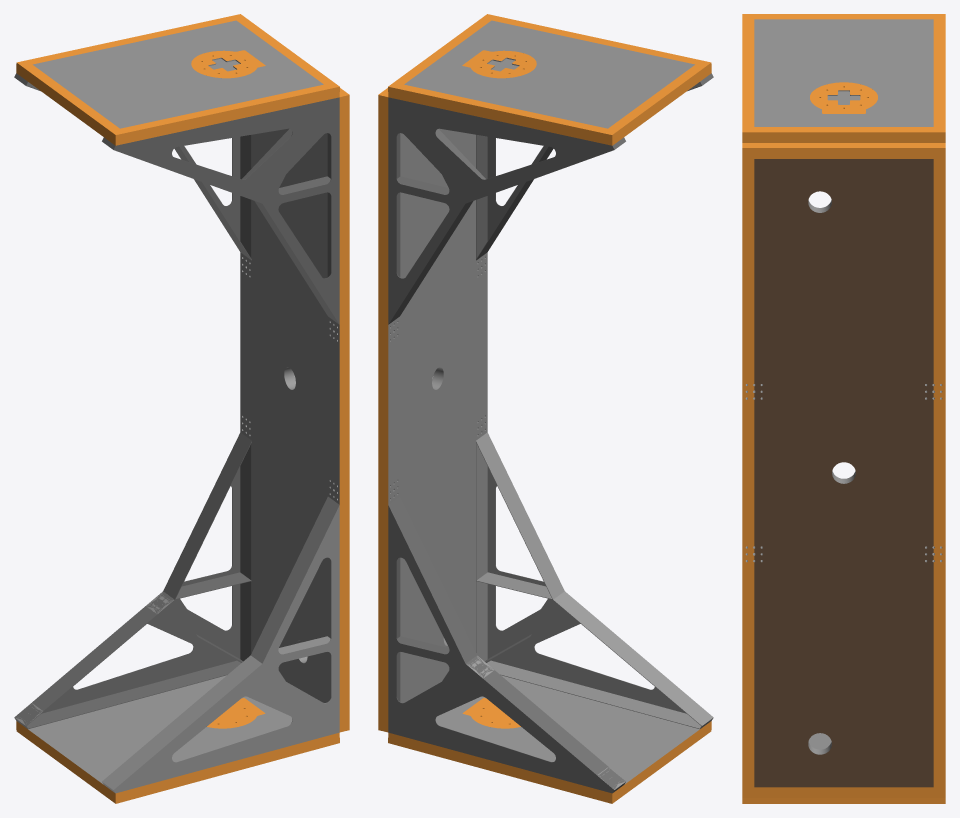
Rendered from interface.obj.
3 renders of one model, left to right at view 1: azimuth 30°, elevation 25°; view 2: azimuth 150°, elevation 25°; view 3: azimuth 270°, elevation 25°, orthographic. The views are drawn at different scales.
Visible parts, largest first — view 1: Interface_Structure_ESPAStar_PickNik; view 2: Interface_Structure_ESPAStar_PickNik; view 3: Interface_Structure_ESPAStar_PickNik.
Boxes of the visible parts, left/top/right/bottom form: Interface_Structure_ESPAStar_PickNik: left=14, top=14, right=349, bottom=803; Interface_Structure_ESPAStar_PickNik: left=378, top=14, right=713, bottom=803; Interface_Structure_ESPAStar_PickNik: left=742, top=14, right=945, bottom=803.
Size of the model in its own units: 0.5934 by 1.6 by 0.4318.
